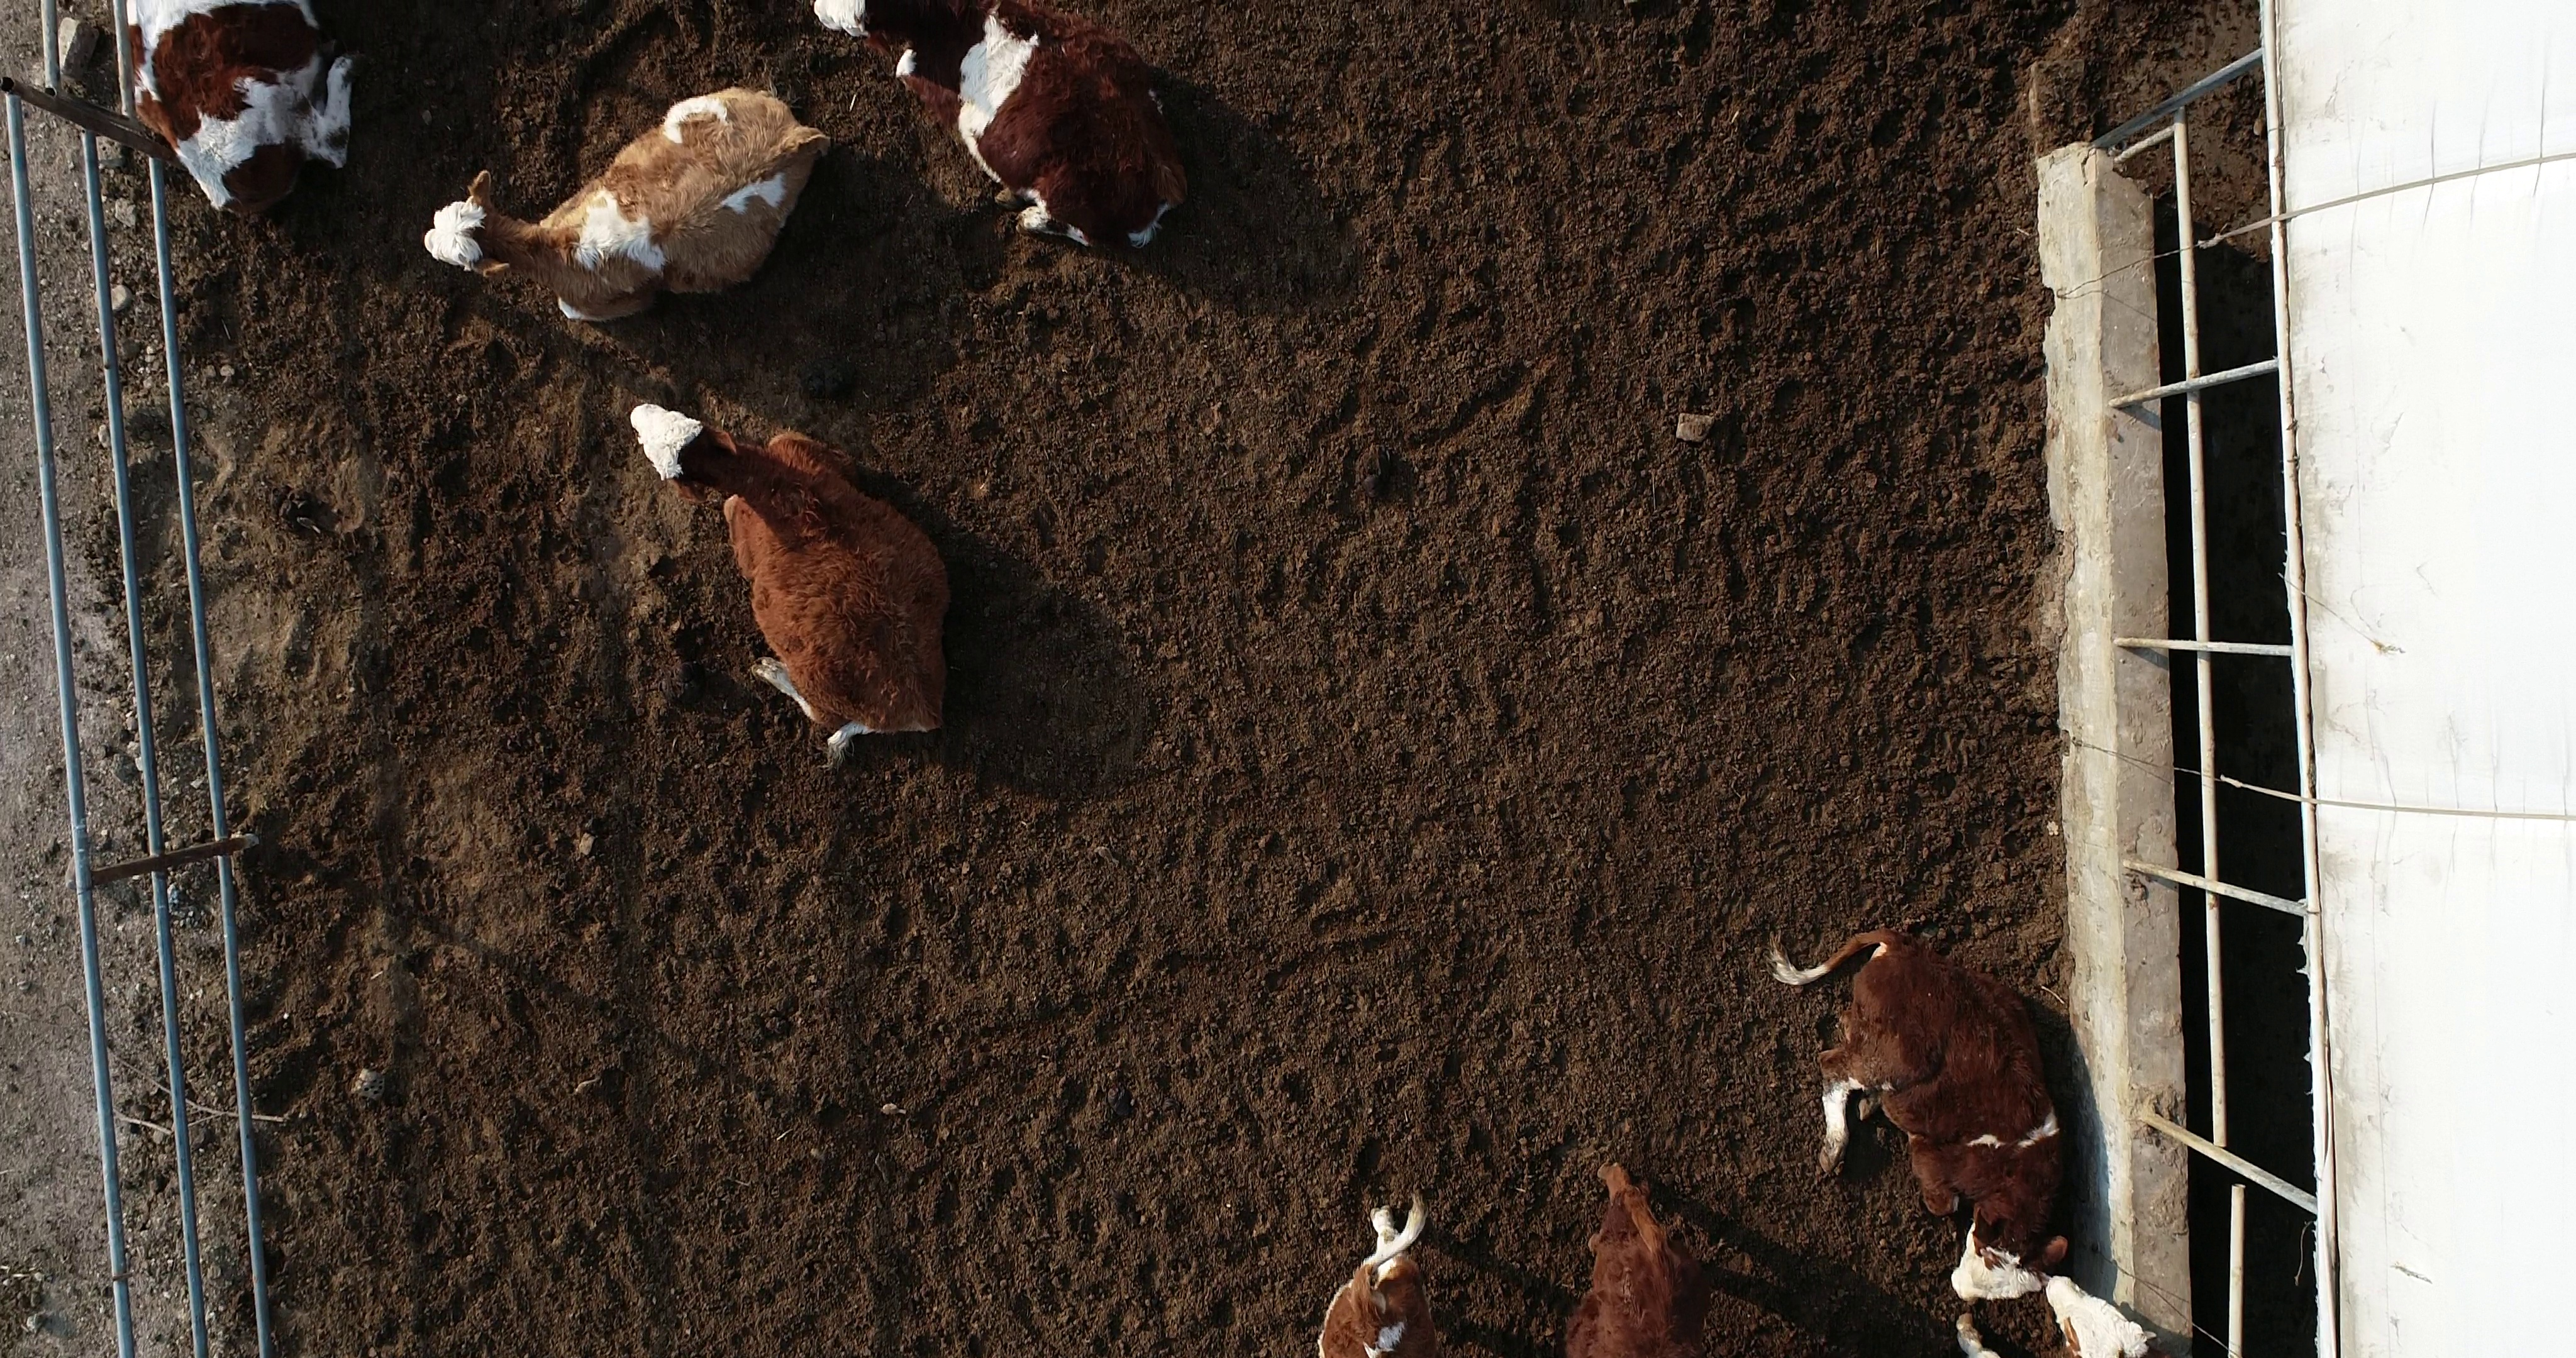cattle: (625, 399, 954, 775), (1760, 920, 2077, 1307), (416, 83, 843, 329)
